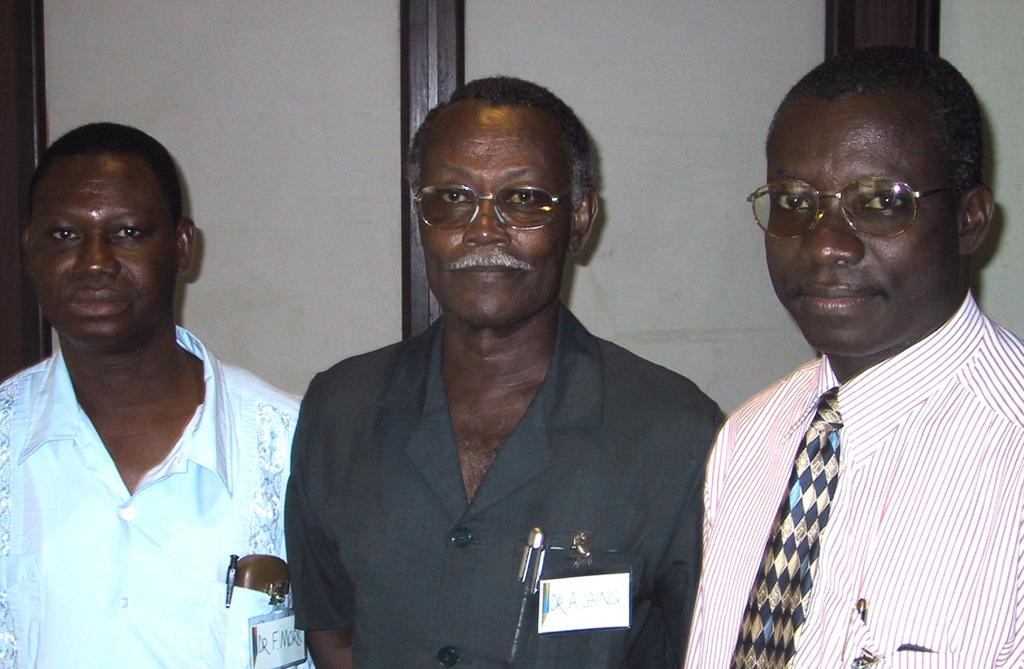face: (764, 110, 954, 358), (420, 110, 572, 326), (36, 154, 176, 336)
